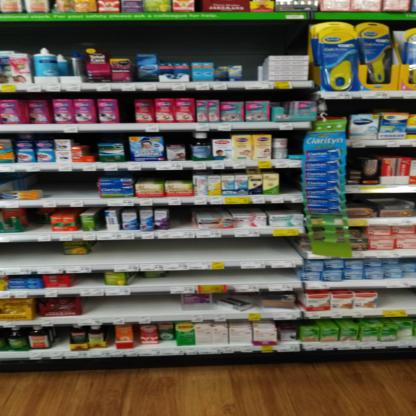Void: (102, 240, 287, 258), (91, 299, 175, 315), (2, 245, 58, 264), (178, 271, 293, 280), (50, 176, 90, 198), (382, 289, 414, 308), (282, 172, 301, 196), (117, 100, 135, 122), (248, 62, 260, 79)
